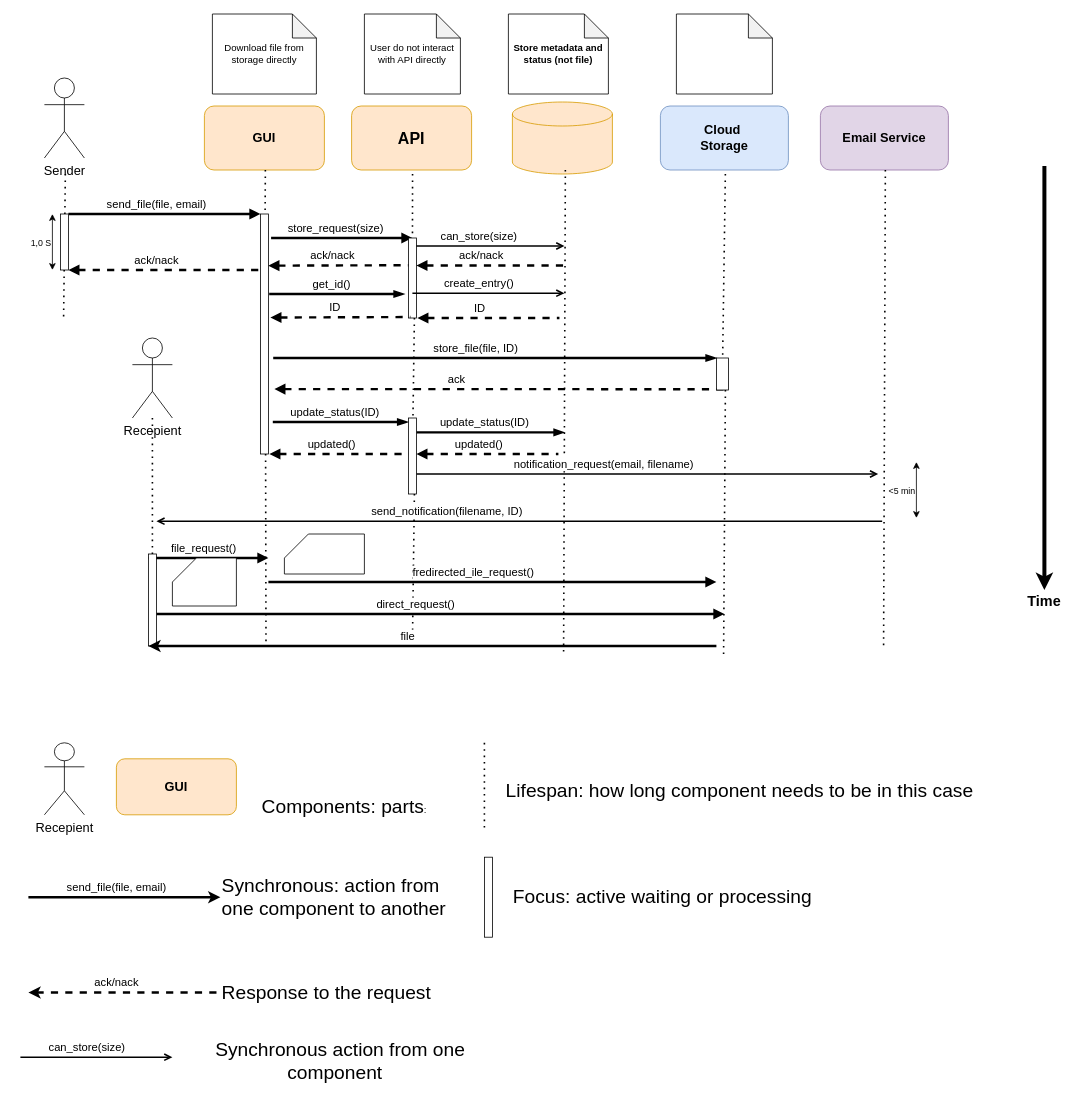
This 1082x1098 diagram has some shape labels left out. The shapes that lost their labels are listed below. From the top down, each one's centre as x and y in pixels, then its label:
At [562,137]: "Database".
At [324,553]: "All action for redirection".
At [204,581]: "In case when use direct links".
